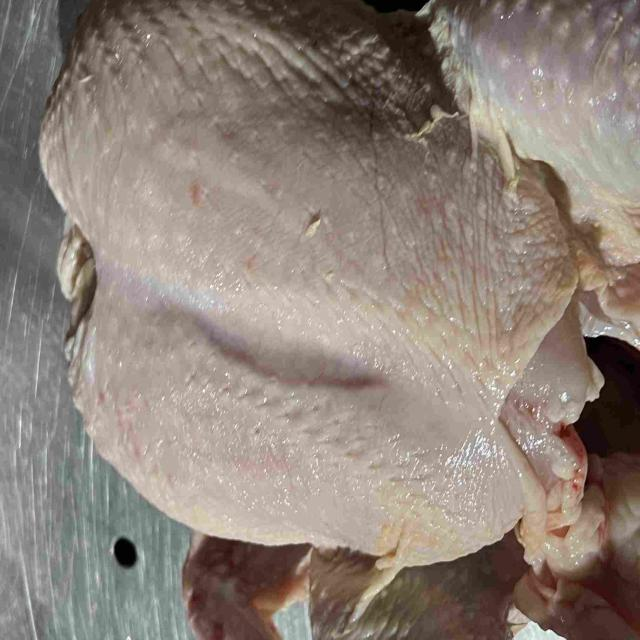breast: (39, 0, 605, 605)
leg: (431, 0, 640, 228), (309, 538, 521, 640)
wing: (183, 533, 311, 640)
